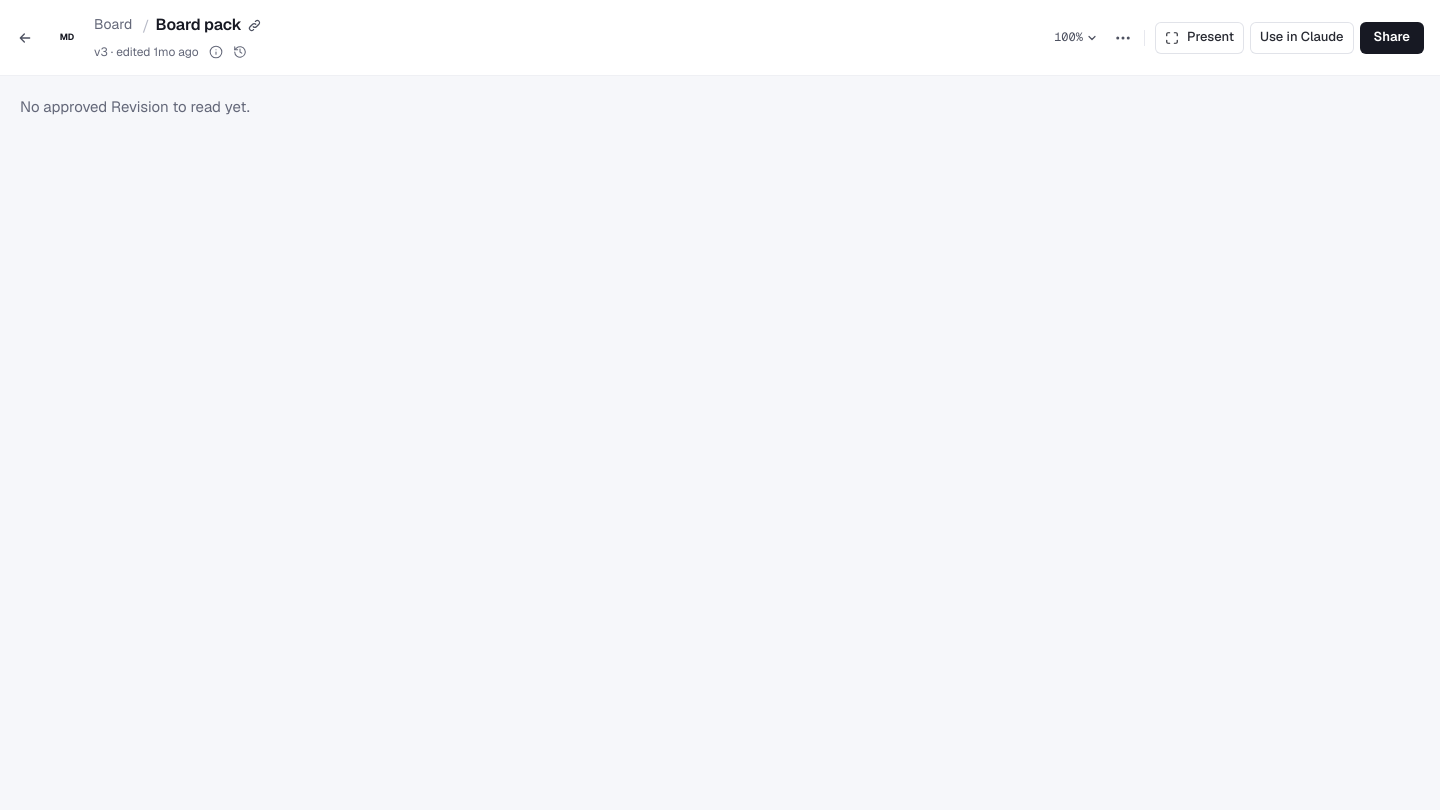
Scenario: PreviewPane header › copies the file's link from full view and toasts
Click the button named "Copy link" at (255, 25), box [242,12,268,38]
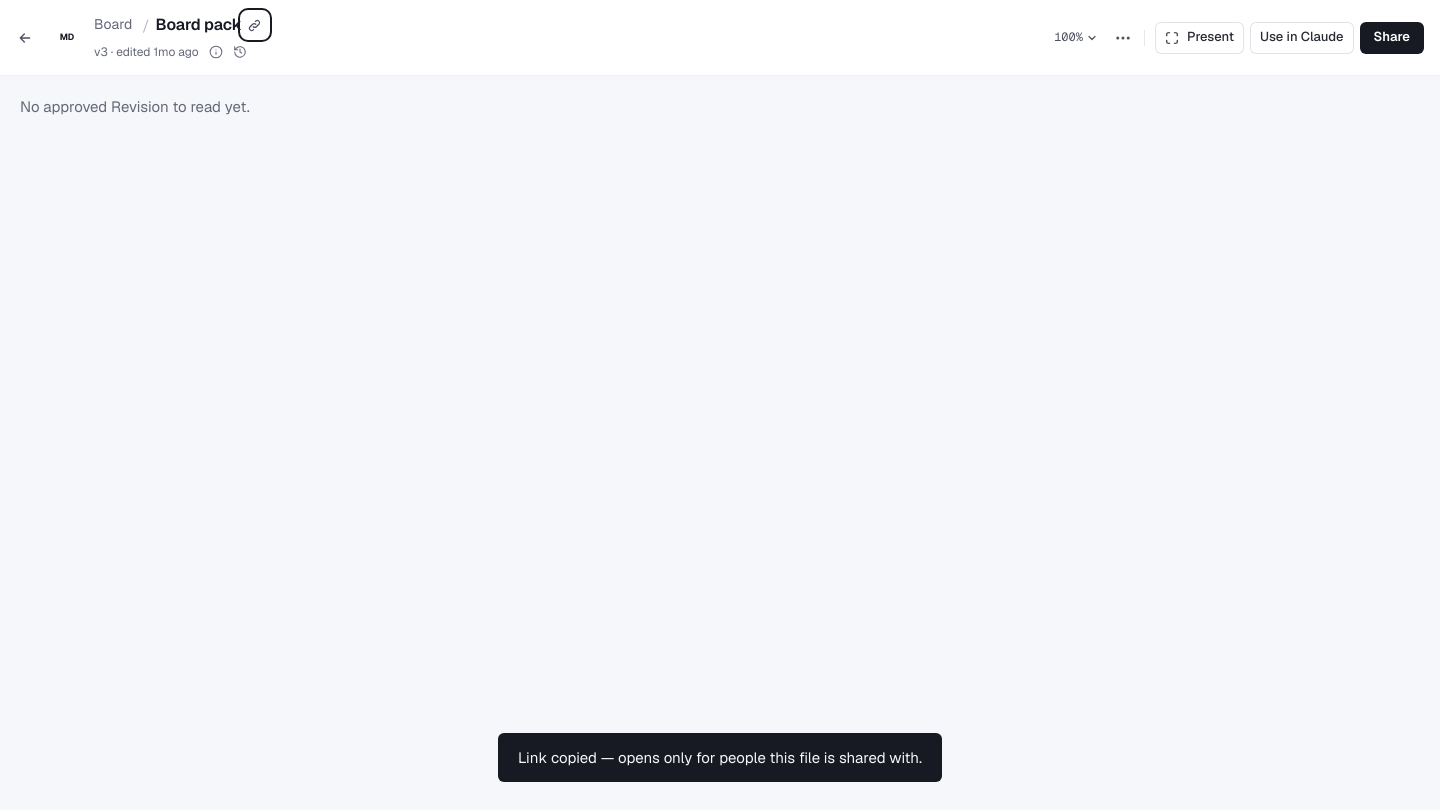
Now the text "Link copied — opens only for people this file is shared with." is shown, box [498,733,942,782]
